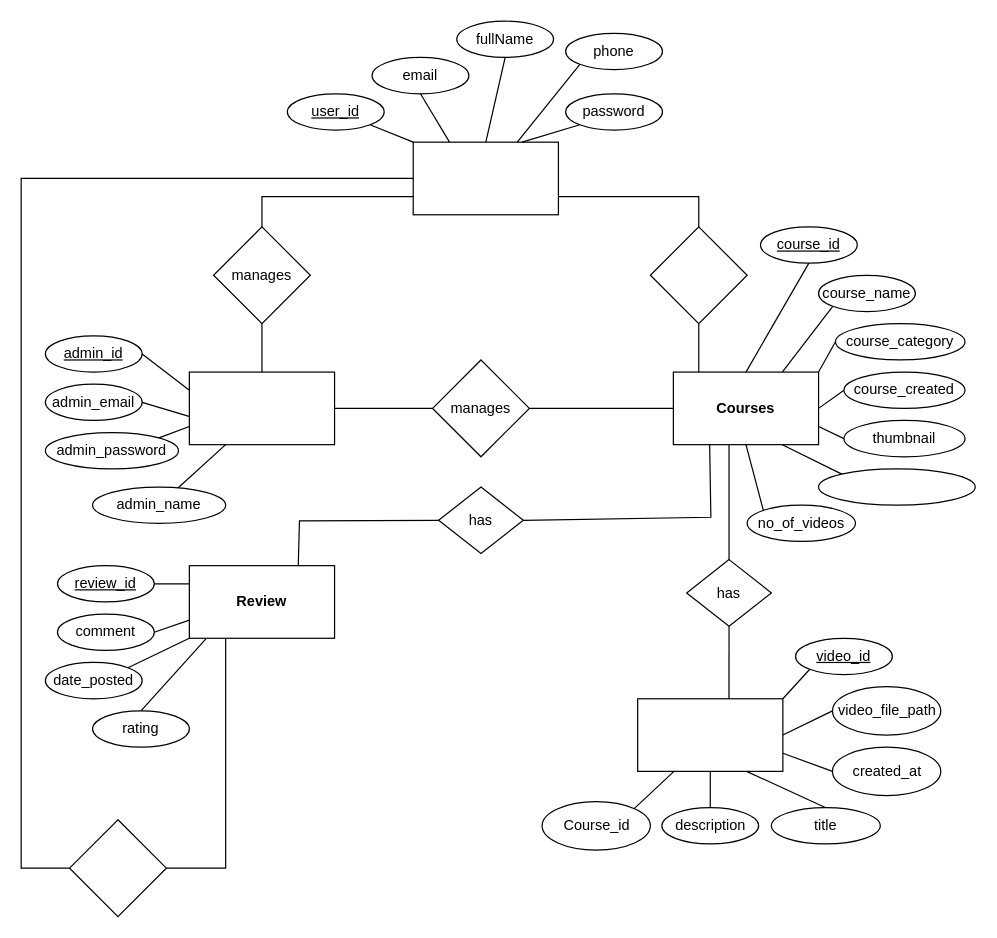
The diagram is 997 pixels wide and 938 high, and some of its shapes have lost their labels. The shapes that lost their labels are listed below. From the top down, each one's box as (x1, y1, x2, y2) in pixels, then its label:
(412, 141, 558, 215): User
(649, 226, 747, 324): accesses
(188, 371, 335, 445): Admin
(817, 468, 975, 505): course_description
(636, 698, 783, 771): Videos
(68, 819, 166, 917): provides
